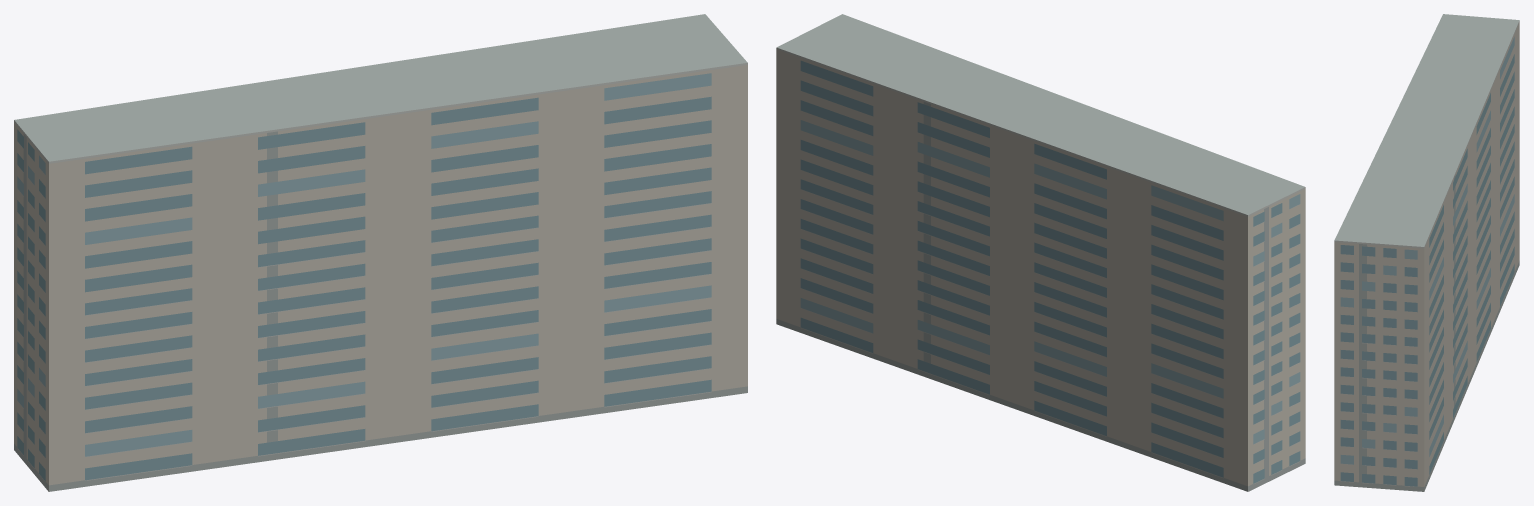
The model's file is residential-445cbae7-e2af-422d-abff-37fe7b69e715.glb.
The picture shows the model from 3 angles, left to right: view 1: azimuth 30°, elevation 25°; view 2: azimuth 150°, elevation 25°; view 3: azimuth 270°, elevation 25°; orthographic projection. The views are drawn at different scales.
Visible parts, largest first — view 1: residential-445cbae7-e2af-422d-abff-37fe7b69e715.tmp; view 2: residential-445cbae7-e2af-422d-abff-37fe7b69e715.tmp; view 3: residential-445cbae7-e2af-422d-abff-37fe7b69e715.tmp.
Boxes of the visible parts, box(x1,y1,x2,y2) form: residential-445cbae7-e2af-422d-abff-37fe7b69e715.tmp: box(14, 14, 747, 491); residential-445cbae7-e2af-422d-abff-37fe7b69e715.tmp: box(776, 14, 1305, 491); residential-445cbae7-e2af-422d-abff-37fe7b69e715.tmp: box(1334, 14, 1519, 491).
Size of the model in its own units: 77.55 by 38 by 26.07.
